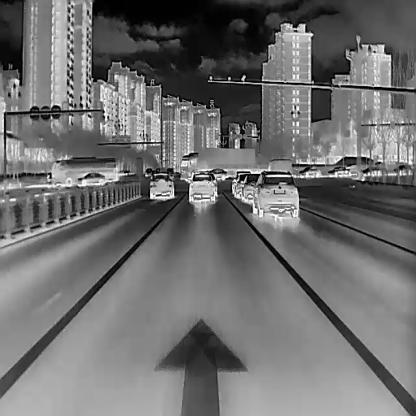bus: (50, 155, 117, 189)
car: (250, 167, 300, 217), (188, 173, 216, 202), (149, 171, 174, 200), (240, 171, 260, 205), (76, 172, 106, 188), (268, 158, 292, 174), (298, 165, 320, 179), (327, 165, 349, 177), (208, 168, 228, 180), (390, 163, 410, 175), (361, 166, 382, 176), (144, 167, 152, 177)
truck: (179, 146, 255, 184)
